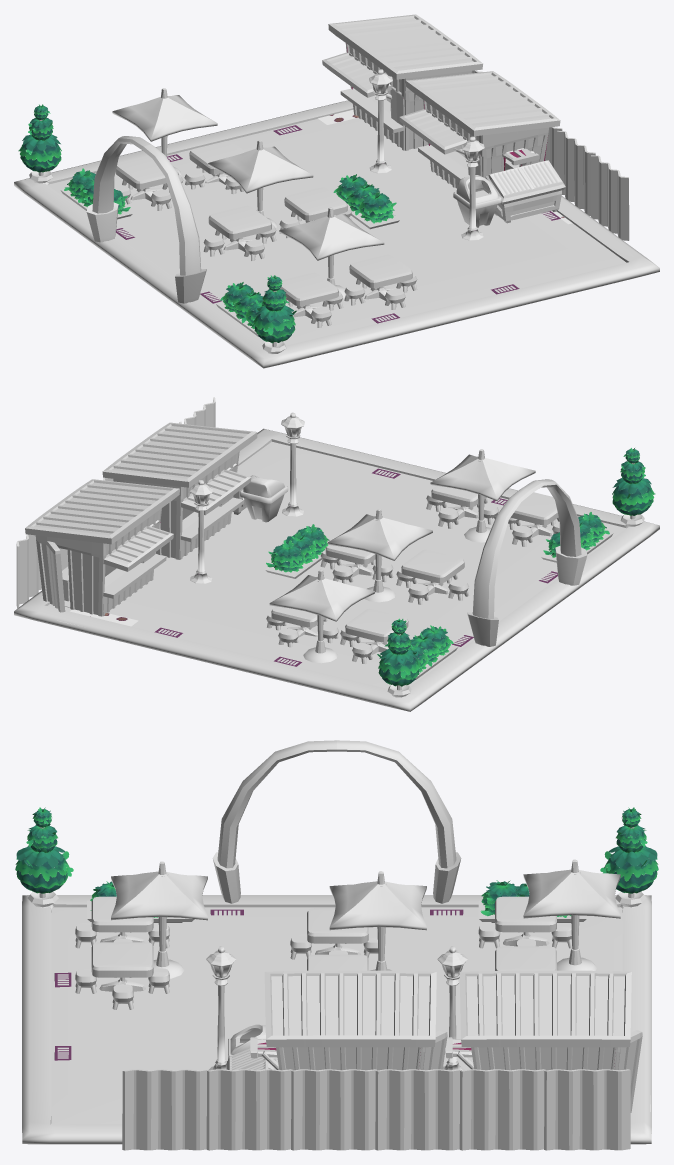
The model's file is kantin.fbx.
3 renders of one model, top to bottom at view 1: azimuth 30°, elevation 25°; view 2: azimuth 150°, elevation 25°; view 3: azimuth 270°, elevation 25°, orthographic. The views are drawn at different scales.
Parts seen in each view (by area): view 1: Plane.017, Cylinder.018, Cube.040, Plane.008, Sphere.006, Cube.007, Cylinder.008, Cylinder.007, Cylinder.010, Cylinder.006, Cylinder.004, Cube.038 (+8 smaller); view 2: Plane.017, Cylinder.018, Cube.040, Sphere.006, Cylinder.010, Cylinder.007, Cylinder.008, Cylinder.004, Cube.038, Cube.019, Cube.037, Plane.008 (+9 smaller); view 3: Plane.017, Plane.008, Cylinder.018, Cube.040, Sphere.006, Cylinder.010, Cylinder.008, Cylinder.007, Cylinder.006, Cylinder.005, Cube.019, Cylinder.004 (+9 smaller).
Part boxes in pixels (x1,y1,x2,y2): Plane.017: [14, 100, 659, 368]; Cylinder.018: [322, 14, 560, 188]; Cube.040: [86, 136, 206, 303]; Plane.008: [471, 70, 629, 240]; Sphere.006: [18, 104, 296, 343]; Cube.007: [485, 160, 565, 223]; Cylinder.008: [279, 207, 384, 298]; Cylinder.007: [208, 140, 313, 227]; Cylinder.010: [112, 88, 217, 175]; Cylinder.006: [344, 254, 417, 309]; Cylinder.004: [203, 205, 276, 260]; Cube.038: [64, 168, 264, 328]; Plane.017: [14, 428, 659, 711]; Cylinder.018: [25, 422, 257, 616]; Cube.040: [467, 479, 587, 646]; Sphere.006: [377, 448, 655, 686]; Cylinder.010: [269, 569, 374, 663]; Cylinder.007: [327, 509, 432, 602]; Cylinder.008: [430, 449, 535, 542]; Cylinder.004: [396, 549, 468, 604]; Cube.038: [409, 512, 609, 672]; Cube.019: [189, 412, 304, 583]; Cube.037: [265, 524, 329, 578]; Plane.008: [16, 397, 215, 608]; Plane.017: [22, 895, 651, 1144]; Plane.008: [122, 1069, 630, 1150]; Cylinder.018: [250, 970, 642, 1112]; Cube.040: [212, 740, 461, 903]; Sphere.006: [15, 807, 658, 893]; Cylinder.010: [523, 859, 620, 970]; Cylinder.008: [111, 861, 207, 978]; Cylinder.007: [329, 871, 426, 970]; Cylinder.006: [75, 942, 169, 1009]; Cylinder.005: [478, 896, 572, 948]; Cube.019: [206, 946, 467, 1070]; Cylinder.004: [290, 908, 385, 959].
Size of the model in its own units: 2242 by 684 by 2402.
